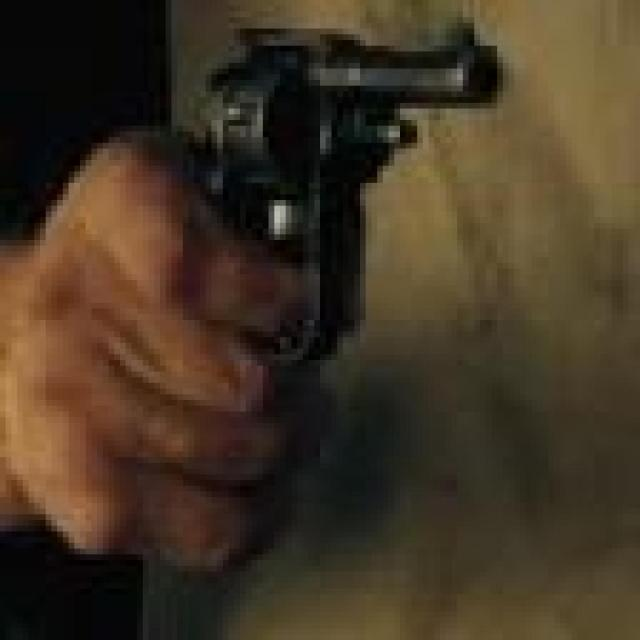pistol: (140, 4, 523, 409)
